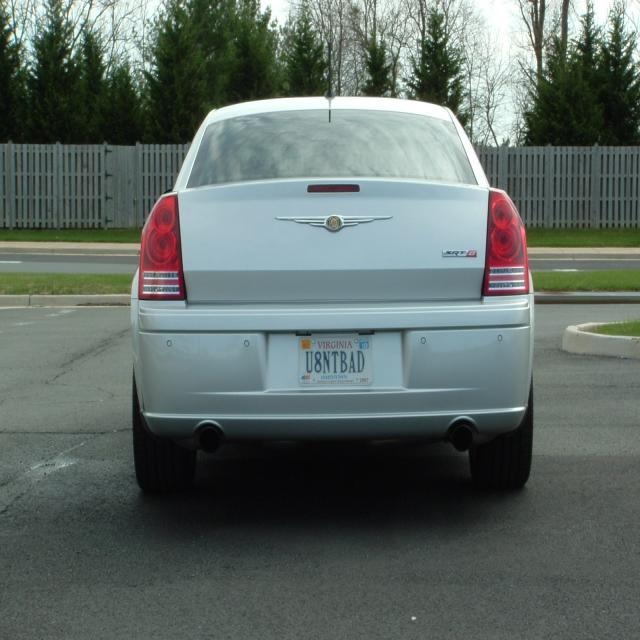Number-Plate: (303, 335, 373, 385)
